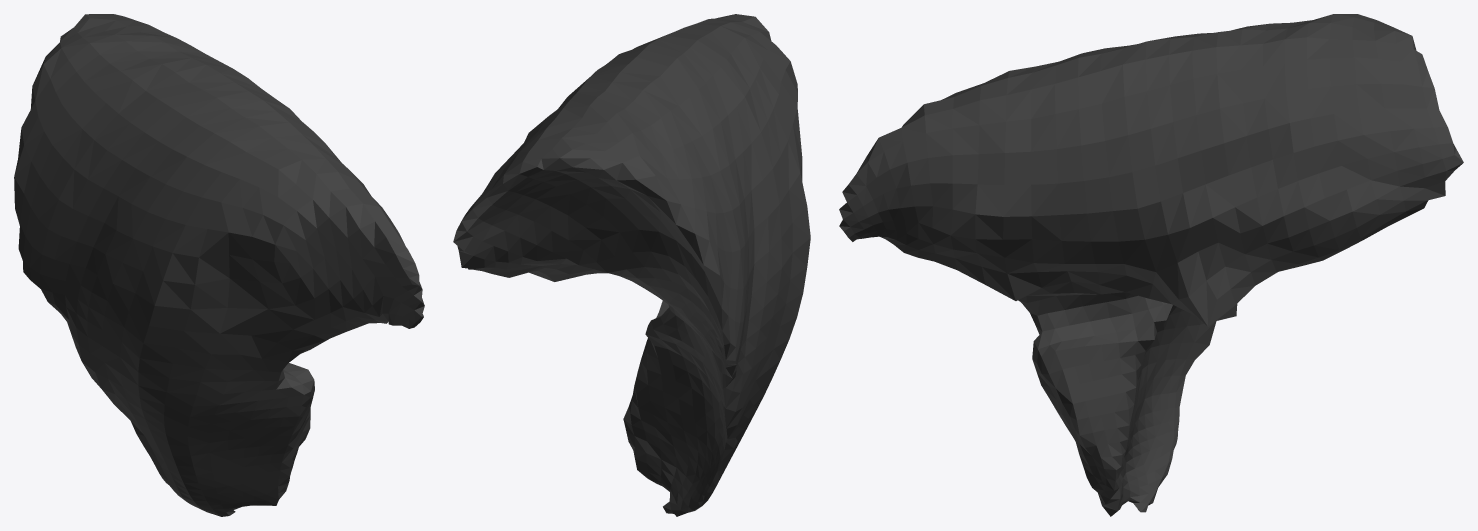
The model's file is Caudal_lobe_R_lung.glb.
3 views of the same model, side by side, from view 1: azimuth 30°, elevation 25°; view 2: azimuth 150°, elevation 25°; view 3: azimuth 270°, elevation 25° (orthographic). The views are drawn at different scales.
Parts seen in each view (by area): view 1: Caudal_lobe_R_lung; view 2: Caudal_lobe_R_lung; view 3: Caudal_lobe_R_lung.
Part boxes in pixels (bbox=[...]): Caudal_lobe_R_lung: bbox=[14, 14, 424, 516]; Caudal_lobe_R_lung: bbox=[453, 14, 810, 516]; Caudal_lobe_R_lung: bbox=[839, 14, 1463, 516].
Size of the model in its own units: 0.9463 by 1.62 by 1.94.
Materials: 1 (1 with a texture image).
